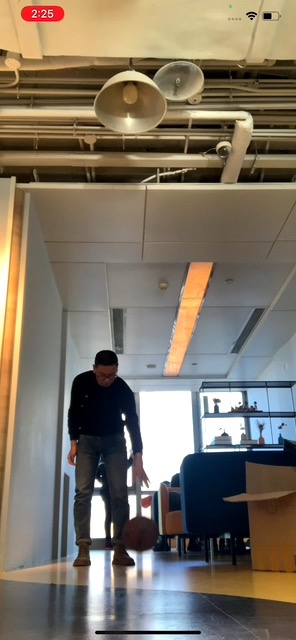ball: (122, 515, 158, 552)
